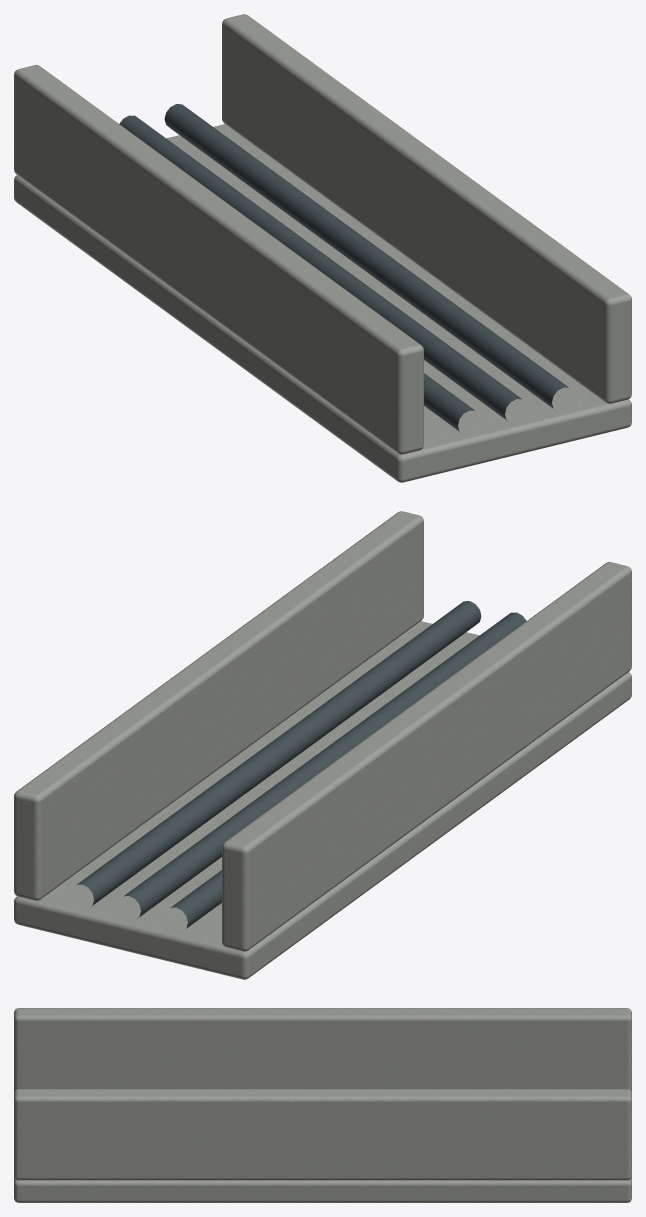
The model's file is hydroelectric-dam-infiltration-cable-trench-d5ffed71__29352.glb.
3 views of the same model, one above another, from view 1: azimuth 30°, elevation 25°; view 2: azimuth 150°, elevation 25°; view 3: azimuth 270°, elevation 25° (orthographic). The views are drawn at different scales.
Parts seen in each view (by area): view 1: cable-trench; view 2: cable-trench; view 3: cable-trench.
Part boxes in pixels (x1=…): cable-trench: x1=14, y1=14, x2=631, y2=482; cable-trench: x1=14, y1=511, x2=631, y2=979; cable-trench: x1=14, y1=1008, x2=631, y2=1202.
Bounding box in the file's own units: 0.7 × 0.3799 × 2.
Materials: 2 (1 with a texture image).
